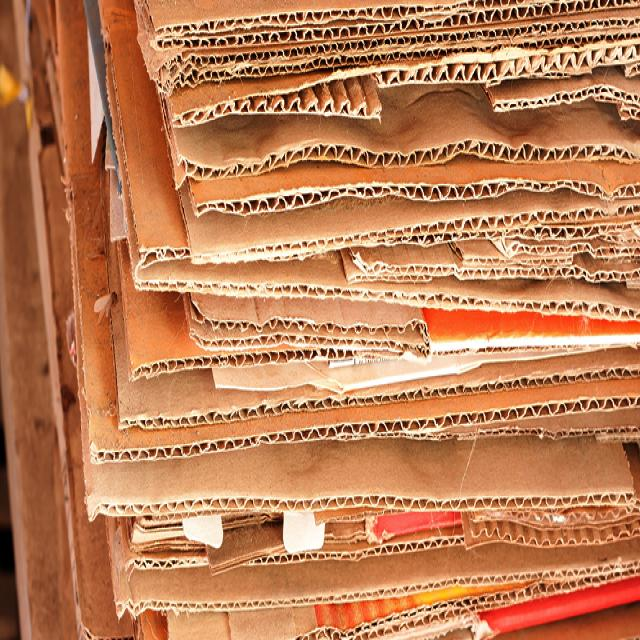Carton: (90, 7, 637, 640)
